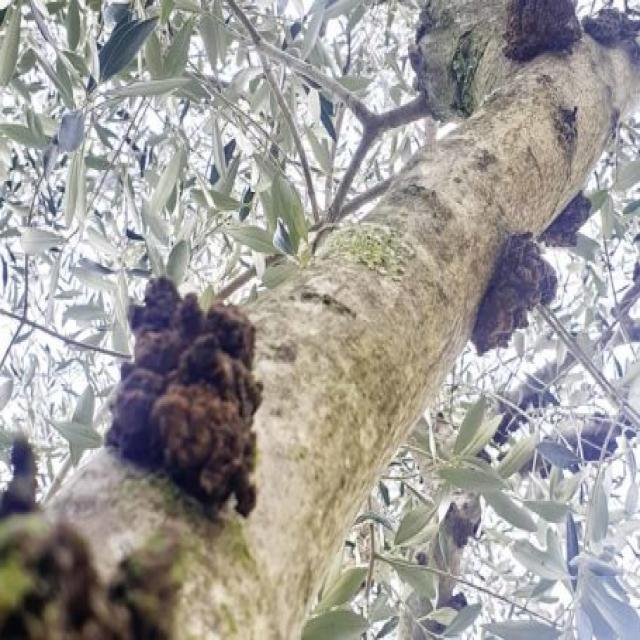Tuberculosis: (105, 276, 262, 519), (471, 232, 554, 353), (504, 0, 581, 62), (546, 192, 592, 247), (582, 7, 639, 46)
